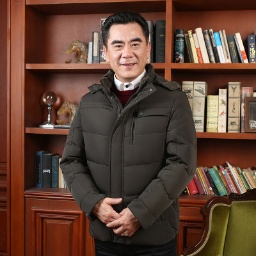face: (100, 12, 152, 80)
